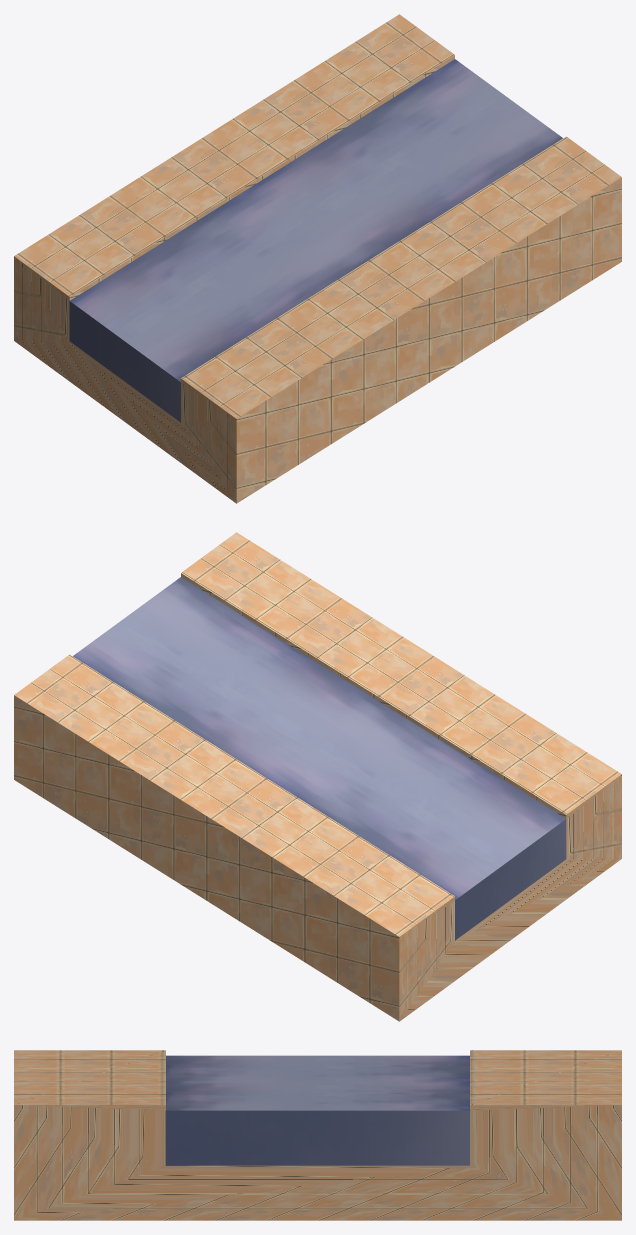
The model's file is tile005.fbx.
The picture shows the model from 3 angles, top to bottom: view 1: azimuth 30°, elevation 25°; view 2: azimuth 150°, elevation 25°; view 3: azimuth 270°, elevation 25°; orthographic projection. The views are drawn at different scales.
Parts seen in each view (by area): view 1: tile005; view 2: tile005; view 3: tile005.
Part boxes in pixels (box(x1,y1,x2,y2)): tile005: box(14, 14, 621, 503); tile005: box(14, 532, 621, 1021); tile005: box(14, 1050, 621, 1220).
Size of the model in its own units: 100 by 57.67 by 100.
